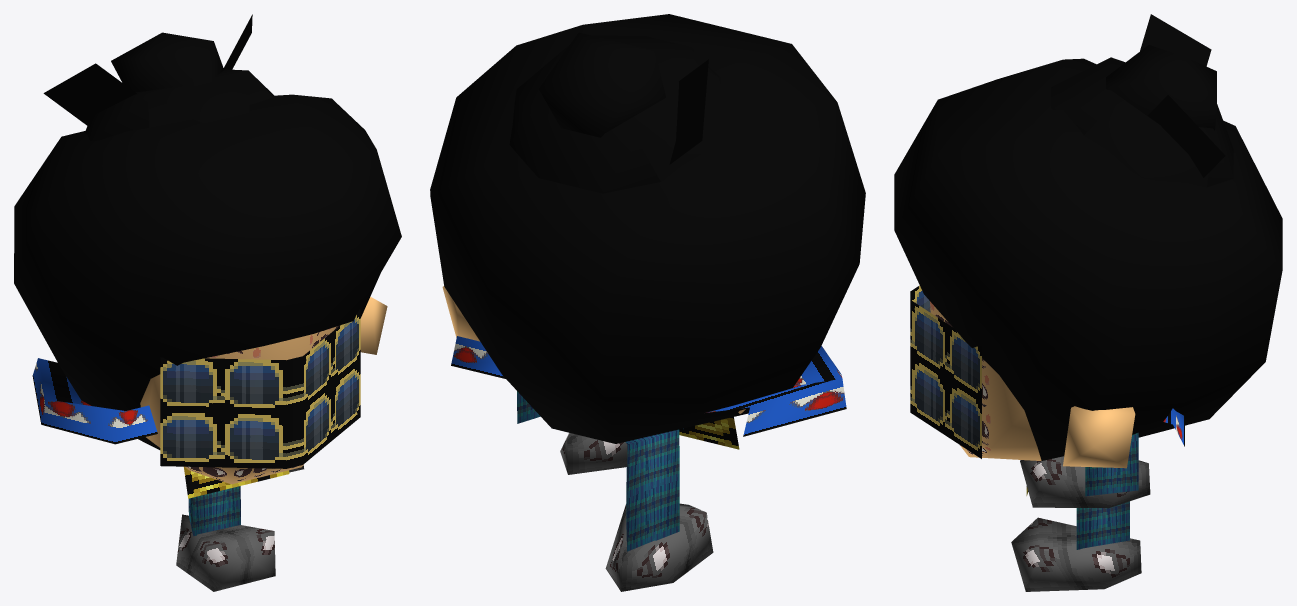
The picture shows the model from 3 angles, left to right: view 1: azimuth 30°, elevation 25°; view 2: azimuth 150°, elevation 25°; view 3: azimuth 270°, elevation 25°; orthographic projection. The views are drawn at different scales.
Visible parts, largest first — view 1: pmd42_00_00; view 2: pmd42_00_00; view 3: pmd42_00_00.
Part boxes in pixels (bbox=[...]): pmd42_00_00: bbox=[14, 14, 401, 591]; pmd42_00_00: bbox=[430, 14, 865, 591]; pmd42_00_00: bbox=[894, 14, 1282, 591].
Size of the model in its own units: 1.17 by 1.56 by 1.05.
Materials: 8 (8 with a texture image).
